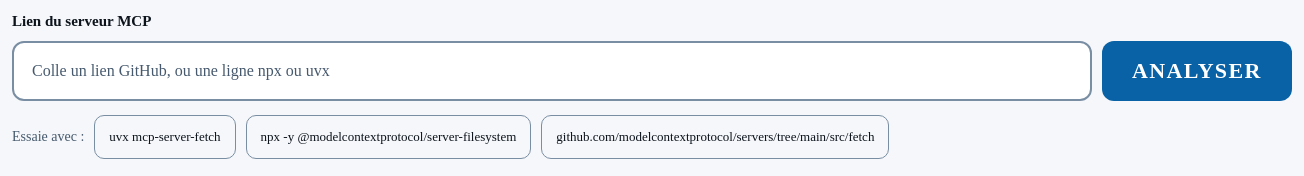
Test: analysis field of the home page › shows only the busy text on its button while sending
Type "uvx mcp-server-fetch" into the field labelled "Lien du serveur MCP" at x=552, y=70, box [12,40,1092,100]
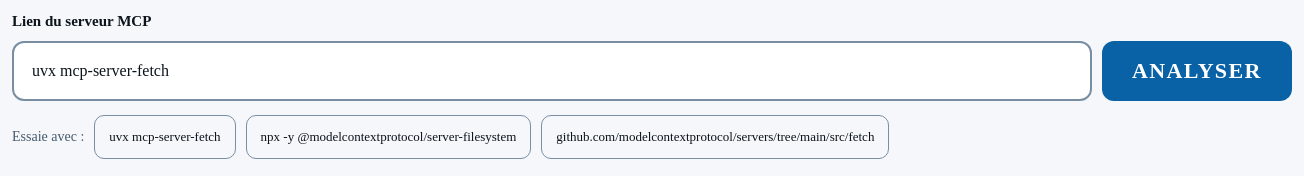
Click the button "ANALYSER" at x=1197, y=70, box [1102,40,1292,100]
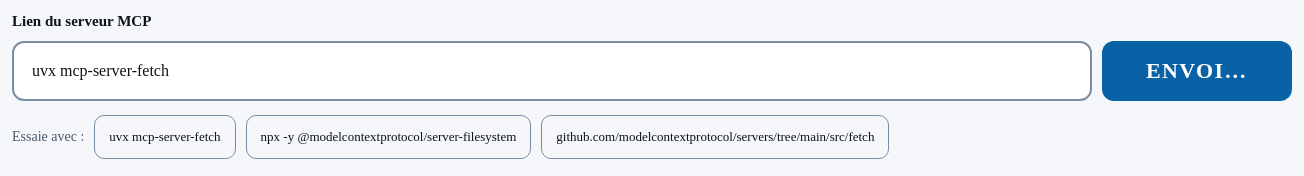
Expected: the button "ENVOI…" is disabled, [1102,40,1292,100]
